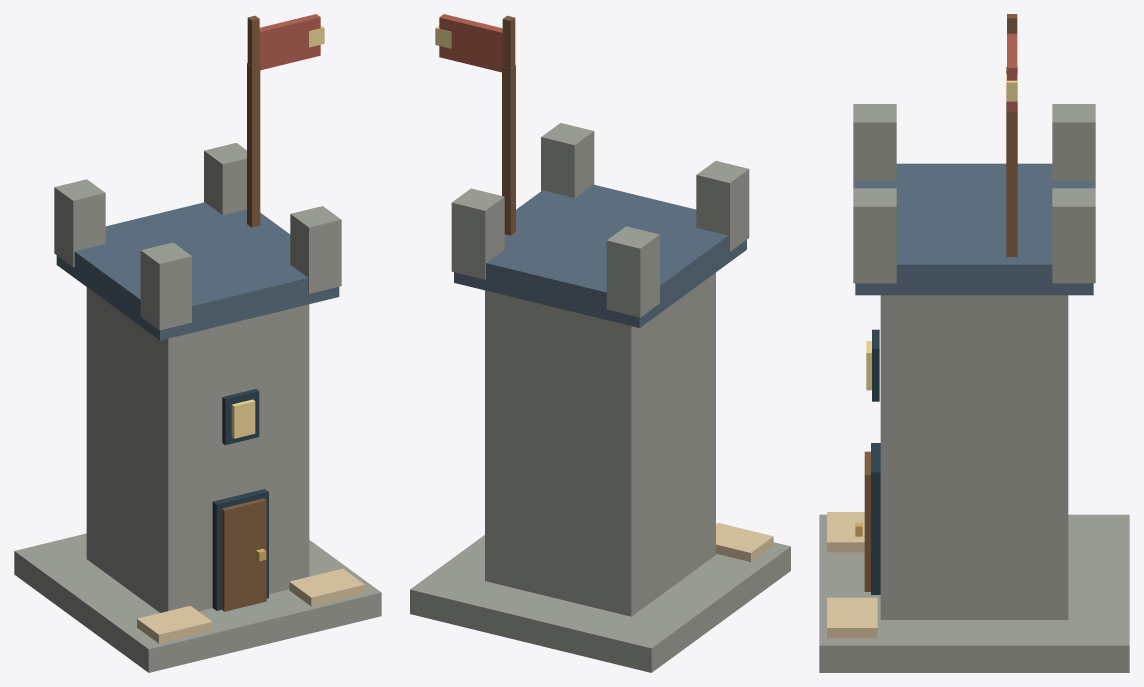
Rendered from watch_tower.glb.
3 views of the same model, side by side, from view 1: azimuth 30°, elevation 25°; view 2: azimuth 150°, elevation 25°; view 3: azimuth 270°, elevation 25° (orthographic). The views are drawn at different scales.
Bounding box in the file's own units: 1.82 × 3.71 × 1.65.
